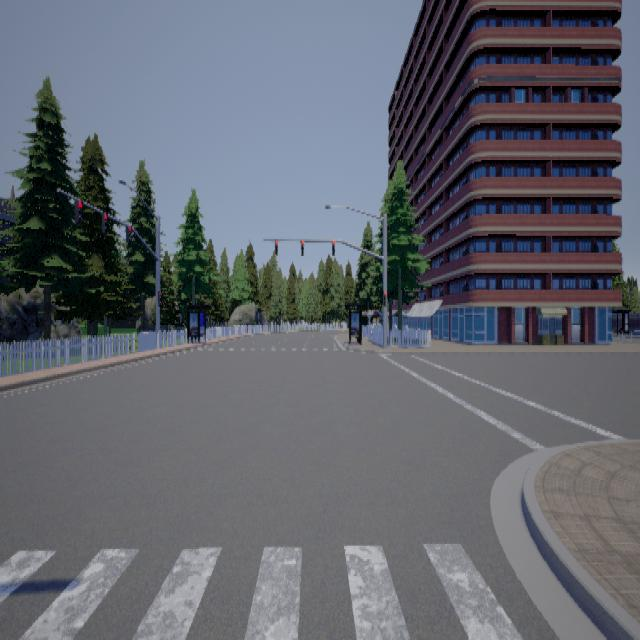red_light: (74, 199, 82, 222), (101, 210, 107, 232), (125, 224, 131, 243), (382, 290, 386, 305), (157, 290, 161, 305), (300, 240, 304, 254), (275, 238, 278, 255), (332, 240, 335, 254)
